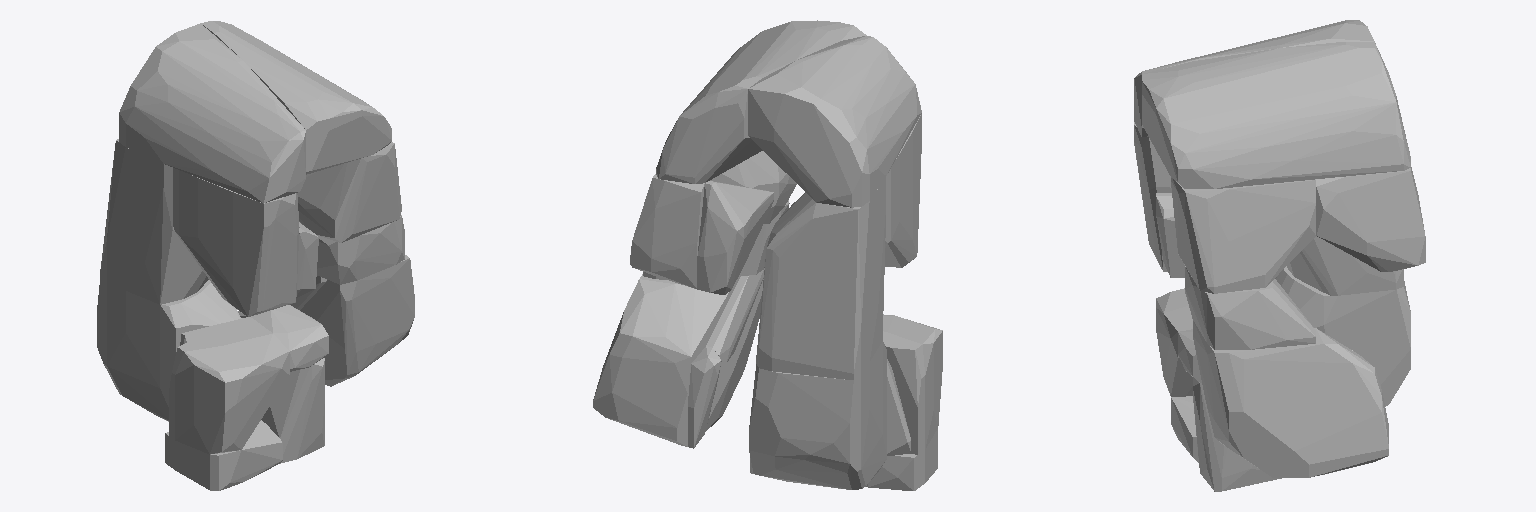
URDF robot description (root):
<robot name="root">
  <link name="link_bar_clamp_convex_piece_0">
    <inertial>
      <origin rpy="0 0 0" xyz="0 0 0"/>
      <mass value="1.90E-05"/>
      <inertia ixx="2.62E-08" ixy="-5.85E-09" ixz="1.39E-08" iyy="3.22E-08" iyz="-7.34E-09" izz="1.58E-08"/>
    </inertial>
    <visual>
      <origin rpy="0 0 0" xyz="0 0 0"/>
      <geometry>
        <mesh filename="bar_clamp_convex_piece_0.obj" scale="1.0000E+00"/>
      </geometry>
      <material name="">
        <color rgba="7.50E-01 7.50E-01 7.50E-01 1"/>
      </material>
    </visual>
    <collision>
      <origin rpy="0 0 0" xyz="0 0 0"/>
      <geometry>
        <mesh filename="bar_clamp_convex_piece_0.obj" scale="1.0000E+00"/>
      </geometry>
    </collision>
  </link>
  <link name="link_bar_clamp_convex_piece_1">
    <inertial>
      <origin rpy="0 0 0" xyz="0 0 0"/>
      <mass value="1.44E-05"/>
      <inertia ixx="3.08E-08" ixy="1.70E-10" ixz="-1.20E-08" iyy="3.32E-08" iyz="-9.08E-10" izz="9.77E-09"/>
    </inertial>
    <visual>
      <origin rpy="0 0 0" xyz="0 0 0"/>
      <geometry>
        <mesh filename="bar_clamp_convex_piece_1.obj" scale="1.0000E+00"/>
      </geometry>
      <material name="">
        <color rgba="7.50E-01 7.50E-01 7.50E-01 1"/>
      </material>
    </visual>
    <collision>
      <origin rpy="0 0 0" xyz="0 0 0"/>
      <geometry>
        <mesh filename="bar_clamp_convex_piece_1.obj" scale="1.0000E+00"/>
      </geometry>
    </collision>
  </link>
  <joint name="link_bar_clamp_convex_piece_1_joint" type="fixed">
    <origin rpy="0 0 0" xyz="0 0 0"/>
    <parent link="link_bar_clamp_convex_piece_0"/>
    <child link="link_bar_clamp_convex_piece_1"/>
  </joint>
  <link name="link_bar_clamp_convex_piece_2">
    <inertial>
      <origin rpy="0 0 0" xyz="0 0 0"/>
      <mass value="2.08E-05"/>
      <inertia ixx="1.92E-08" ixy="1.17E-09" ixz="-1.24E-08" iyy="2.78E-08" iyz="-1.95E-09" izz="1.46E-08"/>
    </inertial>
    <visual>
      <origin rpy="0 0 0" xyz="0 0 0"/>
      <geometry>
        <mesh filename="bar_clamp_convex_piece_2.obj" scale="1.0000E+00"/>
      </geometry>
      <material name="">
        <color rgba="7.50E-01 7.50E-01 7.50E-01 1"/>
      </material>
    </visual>
    <collision>
      <origin rpy="0 0 0" xyz="0 0 0"/>
      <geometry>
        <mesh filename="bar_clamp_convex_piece_2.obj" scale="1.0000E+00"/>
      </geometry>
    </collision>
  </link>
  <joint name="link_bar_clamp_convex_piece_2_joint" type="fixed">
    <origin rpy="0 0 0" xyz="0 0 0"/>
    <parent link="link_bar_clamp_convex_piece_1"/>
    <child link="link_bar_clamp_convex_piece_2"/>
  </joint>
  <link name="link_bar_clamp_convex_piece_3">
    <inertial>
      <origin rpy="0 0 0" xyz="0 0 0"/>
      <mass value="1.78E-05"/>
      <inertia ixx="3.97E-08" ixy="-3.55E-10" ixz="2.98E-09" iyy="3.51E-08" iyz="-2.18E-09" izz="6.40E-09"/>
    </inertial>
    <visual>
      <origin rpy="0 0 0" xyz="0 0 0"/>
      <geometry>
        <mesh filename="bar_clamp_convex_piece_3.obj" scale="1.0000E+00"/>
      </geometry>
      <material name="">
        <color rgba="7.50E-01 7.50E-01 7.50E-01 1"/>
      </material>
    </visual>
    <collision>
      <origin rpy="0 0 0" xyz="0 0 0"/>
      <geometry>
        <mesh filename="bar_clamp_convex_piece_3.obj" scale="1.0000E+00"/>
      </geometry>
    </collision>
  </link>
  <joint name="link_bar_clamp_convex_piece_3_joint" type="fixed">
    <origin rpy="0 0 0" xyz="0 0 0"/>
    <parent link="link_bar_clamp_convex_piece_2"/>
    <child link="link_bar_clamp_convex_piece_3"/>
  </joint>
  <link name="link_bar_clamp_convex_piece_4">
    <inertial>
      <origin rpy="0 0 0" xyz="0 0 0"/>
      <mass value="3.56E-06"/>
      <inertia ixx="1.11E-08" ixy="1.28E-09" ixz="4.46E-09" iyy="1.22E-08" iyz="2.86E-09" izz="3.02E-09"/>
    </inertial>
    <visual>
      <origin rpy="0 0 0" xyz="0 0 0"/>
      <geometry>
        <mesh filename="bar_clamp_convex_piece_4.obj" scale="1.0000E+00"/>
      </geometry>
      <material name="">
        <color rgba="7.50E-01 7.50E-01 7.50E-01 1"/>
      </material>
    </visual>
    <collision>
      <origin rpy="0 0 0" xyz="0 0 0"/>
      <geometry>
        <mesh filename="bar_clamp_convex_piece_4.obj" scale="1.0000E+00"/>
      </geometry>
    </collision>
  </link>
  <joint name="link_bar_clamp_convex_piece_4_joint" type="fixed">
    <origin rpy="0 0 0" xyz="0 0 0"/>
    <parent link="link_bar_clamp_convex_piece_3"/>
    <child link="link_bar_clamp_convex_piece_4"/>
  </joint>
  <link name="link_bar_clamp_convex_piece_5">
    <inertial>
      <origin rpy="0 0 0" xyz="0 0 0"/>
      <mass value="1.12E-05"/>
      <inertia ixx="8.34E-09" ixy="3.98E-09" ixz="-3.26E-09" iyy="7.82E-09" iyz="-3.03E-09" izz="9.13E-09"/>
    </inertial>
    <visual>
      <origin rpy="0 0 0" xyz="0 0 0"/>
      <geometry>
        <mesh filename="bar_clamp_convex_piece_5.obj" scale="1.0000E+00"/>
      </geometry>
      <material name="">
        <color rgba="7.50E-01 7.50E-01 7.50E-01 1"/>
      </material>
    </visual>
    <collision>
      <origin rpy="0 0 0" xyz="0 0 0"/>
      <geometry>
        <mesh filename="bar_clamp_convex_piece_5.obj" scale="1.0000E+00"/>
      </geometry>
    </collision>
  </link>
  <joint name="link_bar_clamp_convex_piece_5_joint" type="fixed">
    <origin rpy="0 0 0" xyz="0 0 0"/>
    <parent link="link_bar_clamp_convex_piece_4"/>
    <child link="link_bar_clamp_convex_piece_5"/>
  </joint>
  <link name="link_bar_clamp_convex_piece_6">
    <inertial>
      <origin rpy="0 0 0" xyz="0 0 0"/>
      <mass value="1.68E-05"/>
      <inertia ixx="7.38E-09" ixy="-5.47E-09" ixz="-3.20E-09" iyy="1.41E-08" iyz="1.34E-09" izz="1.47E-08"/>
    </inertial>
    <visual>
      <origin rpy="0 0 0" xyz="0 0 0"/>
      <geometry>
        <mesh filename="bar_clamp_convex_piece_6.obj" scale="1.0000E+00"/>
      </geometry>
      <material name="">
        <color rgba="7.50E-01 7.50E-01 7.50E-01 1"/>
      </material>
    </visual>
    <collision>
      <origin rpy="0 0 0" xyz="0 0 0"/>
      <geometry>
        <mesh filename="bar_clamp_convex_piece_6.obj" scale="1.0000E+00"/>
      </geometry>
    </collision>
  </link>
  <joint name="link_bar_clamp_convex_piece_6_joint" type="fixed">
    <origin rpy="0 0 0" xyz="0 0 0"/>
    <parent link="link_bar_clamp_convex_piece_5"/>
    <child link="link_bar_clamp_convex_piece_6"/>
  </joint>
  <link name="link_bar_clamp_convex_piece_7">
    <inertial>
      <origin rpy="0 0 0" xyz="0 0 0"/>
      <mass value="3.60E-07"/>
      <inertia ixx="4.51E-10" ixy="4.96E-11" ixz="-8.21E-11" iyy="3.53E-10" iyz="-1.91E-10" izz="1.24E-10"/>
    </inertial>
    <visual>
      <origin rpy="0 0 0" xyz="0 0 0"/>
      <geometry>
        <mesh filename="bar_clamp_convex_piece_7.obj" scale="1.0000E+00"/>
      </geometry>
      <material name="">
        <color rgba="7.50E-01 7.50E-01 7.50E-01 1"/>
      </material>
    </visual>
    <collision>
      <origin rpy="0 0 0" xyz="0 0 0"/>
      <geometry>
        <mesh filename="bar_clamp_convex_piece_7.obj" scale="1.0000E+00"/>
      </geometry>
    </collision>
  </link>
  <joint name="link_bar_clamp_convex_piece_7_joint" type="fixed">
    <origin rpy="0 0 0" xyz="0 0 0"/>
    <parent link="link_bar_clamp_convex_piece_6"/>
    <child link="link_bar_clamp_convex_piece_7"/>
  </joint>
  <link name="link_bar_clamp_convex_piece_8">
    <inertial>
      <origin rpy="0 0 0" xyz="0 0 0"/>
      <mass value="6.60E-06"/>
      <inertia ixx="9.78E-09" ixy="3.15E-09" ixz="5.53E-09" iyy="1.16E-08" iyz="4.04E-09" izz="6.93E-09"/>
    </inertial>
    <visual>
      <origin rpy="0 0 0" xyz="0 0 0"/>
      <geometry>
        <mesh filename="bar_clamp_convex_piece_8.obj" scale="1.0000E+00"/>
      </geometry>
      <material name="">
        <color rgba="7.50E-01 7.50E-01 7.50E-01 1"/>
      </material>
    </visual>
    <collision>
      <origin rpy="0 0 0" xyz="0 0 0"/>
      <geometry>
        <mesh filename="bar_clamp_convex_piece_8.obj" scale="1.0000E+00"/>
      </geometry>
    </collision>
  </link>
  <joint name="link_bar_clamp_convex_piece_8_joint" type="fixed">
    <origin rpy="0 0 0" xyz="0 0 0"/>
    <parent link="link_bar_clamp_convex_piece_7"/>
    <child link="link_bar_clamp_convex_piece_8"/>
  </joint>
  <link name="link_bar_clamp_convex_piece_9">
    <inertial>
      <origin rpy="0 0 0" xyz="0 0 0"/>
      <mass value="2.02E-06"/>
      <inertia ixx="2.55E-09" ixy="2.86E-10" ixz="1.50E-09" iyy="3.43E-09" iyz="4.41E-10" izz="1.06E-09"/>
    </inertial>
    <visual>
      <origin rpy="0 0 0" xyz="0 0 0"/>
      <geometry>
        <mesh filename="bar_clamp_convex_piece_9.obj" scale="1.0000E+00"/>
      </geometry>
      <material name="">
        <color rgba="7.50E-01 7.50E-01 7.50E-01 1"/>
      </material>
    </visual>
    <collision>
      <origin rpy="0 0 0" xyz="0 0 0"/>
      <geometry>
        <mesh filename="bar_clamp_convex_piece_9.obj" scale="1.0000E+00"/>
      </geometry>
    </collision>
  </link>
  <joint name="link_bar_clamp_convex_piece_9_joint" type="fixed">
    <origin rpy="0 0 0" xyz="0 0 0"/>
    <parent link="link_bar_clamp_convex_piece_8"/>
    <child link="link_bar_clamp_convex_piece_9"/>
  </joint>
  <link name="link_bar_clamp_convex_piece_10">
    <inertial>
      <origin rpy="0 0 0" xyz="0 0 0"/>
      <mass value="6.26E-06"/>
      <inertia ixx="1.33E-08" ixy="2.38E-11" ixz="5.47E-10" iyy="1.25E-08" iyz="1.97E-09" izz="7.19E-10"/>
    </inertial>
    <visual>
      <origin rpy="0 0 0" xyz="0 0 0"/>
      <geometry>
        <mesh filename="bar_clamp_convex_piece_10.obj" scale="1.0000E+00"/>
      </geometry>
      <material name="">
        <color rgba="7.50E-01 7.50E-01 7.50E-01 1"/>
      </material>
    </visual>
    <collision>
      <origin rpy="0 0 0" xyz="0 0 0"/>
      <geometry>
        <mesh filename="bar_clamp_convex_piece_10.obj" scale="1.0000E+00"/>
      </geometry>
    </collision>
  </link>
  <joint name="link_bar_clamp_convex_piece_10_joint" type="fixed">
    <origin rpy="0 0 0" xyz="0 0 0"/>
    <parent link="link_bar_clamp_convex_piece_9"/>
    <child link="link_bar_clamp_convex_piece_10"/>
  </joint>
  <link name="link_bar_clamp_convex_piece_11">
    <inertial>
      <origin rpy="0 0 0" xyz="0 0 0"/>
      <mass value="1.48E-06"/>
      <inertia ixx="7.85E-10" ixy="1.72E-10" ixz="-4.55E-11" iyy="1.26E-10" iyz="-1.92E-10" izz="6.95E-10"/>
    </inertial>
    <visual>
      <origin rpy="0 0 0" xyz="0 0 0"/>
      <geometry>
        <mesh filename="bar_clamp_convex_piece_11.obj" scale="1.0000E+00"/>
      </geometry>
      <material name="">
        <color rgba="7.50E-01 7.50E-01 7.50E-01 1"/>
      </material>
    </visual>
    <collision>
      <origin rpy="0 0 0" xyz="0 0 0"/>
      <geometry>
        <mesh filename="bar_clamp_convex_piece_11.obj" scale="1.0000E+00"/>
      </geometry>
    </collision>
  </link>
  <joint name="link_bar_clamp_convex_piece_11_joint" type="fixed">
    <origin rpy="0 0 0" xyz="0 0 0"/>
    <parent link="link_bar_clamp_convex_piece_10"/>
    <child link="link_bar_clamp_convex_piece_11"/>
  </joint>
  <link name="link_bar_clamp_convex_piece_12">
    <inertial>
      <origin rpy="0 0 0" xyz="0 0 0"/>
      <mass value="2.08E-06"/>
      <inertia ixx="1.71E-09" ixy="-1.19E-10" ixz="-7.41E-11" iyy="6.36E-10" iyz="7.34E-10" izz="1.03E-09"/>
    </inertial>
    <visual>
      <origin rpy="0 0 0" xyz="0 0 0"/>
      <geometry>
        <mesh filename="bar_clamp_convex_piece_12.obj" scale="1.0000E+00"/>
      </geometry>
      <material name="">
        <color rgba="7.50E-01 7.50E-01 7.50E-01 1"/>
      </material>
    </visual>
    <collision>
      <origin rpy="0 0 0" xyz="0 0 0"/>
      <geometry>
        <mesh filename="bar_clamp_convex_piece_12.obj" scale="1.0000E+00"/>
      </geometry>
    </collision>
  </link>
  <joint name="link_bar_clamp_convex_piece_12_joint" type="fixed">
    <origin rpy="0 0 0" xyz="0 0 0"/>
    <parent link="link_bar_clamp_convex_piece_11"/>
    <child link="link_bar_clamp_convex_piece_12"/>
  </joint>
  <link name="link_bar_clamp_convex_piece_13">
    <inertial>
      <origin rpy="0 0 0" xyz="0 0 0"/>
      <mass value="6.61E-06"/>
      <inertia ixx="6.55E-09" ixy="1.43E-09" ixz="1.32E-09" iyy="3.56E-09" iyz="2.83E-09" izz="4.26E-09"/>
    </inertial>
    <visual>
      <origin rpy="0 0 0" xyz="0 0 0"/>
      <geometry>
        <mesh filename="bar_clamp_convex_piece_13.obj" scale="1.0000E+00"/>
      </geometry>
      <material name="">
        <color rgba="7.50E-01 7.50E-01 7.50E-01 1"/>
      </material>
    </visual>
    <collision>
      <origin rpy="0 0 0" xyz="0 0 0"/>
      <geometry>
        <mesh filename="bar_clamp_convex_piece_13.obj" scale="1.0000E+00"/>
      </geometry>
    </collision>
  </link>
  <joint name="link_bar_clamp_convex_piece_13_joint" type="fixed">
    <origin rpy="0 0 0" xyz="0 0 0"/>
    <parent link="link_bar_clamp_convex_piece_12"/>
    <child link="link_bar_clamp_convex_piece_13"/>
  </joint>
  <link name="link_bar_clamp_convex_piece_14">
    <inertial>
      <origin rpy="0 0 0" xyz="0 0 0"/>
      <mass value="2.16E-06"/>
      <inertia ixx="1.70E-09" ixy="4.07E-11" ixz="1.44E-10" iyy="1.33E-09" iyz="5.21E-10" izz="3.56E-10"/>
    </inertial>
    <visual>
      <origin rpy="0 0 0" xyz="0 0 0"/>
      <geometry>
        <mesh filename="bar_clamp_convex_piece_14.obj" scale="1.0000E+00"/>
      </geometry>
      <material name="">
        <color rgba="7.50E-01 7.50E-01 7.50E-01 1"/>
      </material>
    </visual>
    <collision>
      <origin rpy="0 0 0" xyz="0 0 0"/>
      <geometry>
        <mesh filename="bar_clamp_convex_piece_14.obj" scale="1.0000E+00"/>
      </geometry>
    </collision>
  </link>
  <joint name="link_bar_clamp_convex_piece_14_joint" type="fixed">
    <origin rpy="0 0 0" xyz="0 0 0"/>
    <parent link="link_bar_clamp_convex_piece_13"/>
    <child link="link_bar_clamp_convex_piece_14"/>
  </joint>
  <link name="link_bar_clamp_convex_piece_15">
    <inertial>
      <origin rpy="0 0 0" xyz="0 0 0"/>
      <mass value="3.96E-07"/>
      <inertia ixx="1.49E-10" ixy="3.88E-12" ixz="-5.44E-11" iyy="1.50E-10" iyz="-1.79E-11" izz="3.60E-11"/>
    </inertial>
    <visual>
      <origin rpy="0 0 0" xyz="0 0 0"/>
      <geometry>
        <mesh filename="bar_clamp_convex_piece_15.obj" scale="1.0000E+00"/>
      </geometry>
      <material name="">
        <color rgba="7.50E-01 7.50E-01 7.50E-01 1"/>
      </material>
    </visual>
    <collision>
      <origin rpy="0 0 0" xyz="0 0 0"/>
      <geometry>
        <mesh filename="bar_clamp_convex_piece_15.obj" scale="1.0000E+00"/>
      </geometry>
    </collision>
  </link>
  <joint name="link_bar_clamp_convex_piece_15_joint" type="fixed">
    <origin rpy="0 0 0" xyz="0 0 0"/>
    <parent link="link_bar_clamp_convex_piece_14"/>
    <child link="link_bar_clamp_convex_piece_15"/>
  </joint>
  <link name="link_bar_clamp_convex_piece_16">
    <inertial>
      <origin rpy="0 0 0" xyz="0 0 0"/>
      <mass value="5.13E-06"/>
      <inertia ixx="8.72E-10" ixy="-9.44E-10" ixz="-1.00E-11" iyy="2.18E-09" iyz="-2.23E-11" izz="2.90E-09"/>
    </inertial>
    <visual>
      <origin rpy="0 0 0" xyz="0 0 0"/>
      <geometry>
        <mesh filename="bar_clamp_convex_piece_16.obj" scale="1.0000E+00"/>
      </geometry>
      <material name="">
        <color rgba="7.50E-01 7.50E-01 7.50E-01 1"/>
      </material>
    </visual>
    <collision>
      <origin rpy="0 0 0" xyz="0 0 0"/>
      <geometry>
        <mesh filename="bar_clamp_convex_piece_16.obj" scale="1.0000E+00"/>
      </geometry>
    </collision>
  </link>
  <joint name="link_bar_clamp_convex_piece_16_joint" type="fixed">
    <origin rpy="0 0 0" xyz="0 0 0"/>
    <parent link="link_bar_clamp_convex_piece_15"/>
    <child link="link_bar_clamp_convex_piece_16"/>
  </joint>
  <link name="link_bar_clamp_convex_piece_17">
    <inertial>
      <origin rpy="0 0 0" xyz="0 0 0"/>
      <mass value="1.08E-05"/>
      <inertia ixx="6.68E-09" ixy="-1.59E-09" ixz="3.30E-09" iyy="7.50E-09" iyz="-1.89E-09" izz="4.48E-09"/>
    </inertial>
    <visual>
      <origin rpy="0 0 0" xyz="0 0 0"/>
      <geometry>
        <mesh filename="bar_clamp_convex_piece_17.obj" scale="1.0000E+00"/>
      </geometry>
      <material name="">
        <color rgba="7.50E-01 7.50E-01 7.50E-01 1"/>
      </material>
    </visual>
    <collision>
      <origin rpy="0 0 0" xyz="0 0 0"/>
      <geometry>
        <mesh filename="bar_clamp_convex_piece_17.obj" scale="1.0000E+00"/>
      </geometry>
    </collision>
  </link>
  <joint name="link_bar_clamp_convex_piece_17_joint" type="fixed">
    <origin rpy="0 0 0" xyz="0 0 0"/>
    <parent link="link_bar_clamp_convex_piece_16"/>
    <child link="link_bar_clamp_convex_piece_17"/>
  </joint>
</robot>

--- What the picture shows (computed from the rendered views, not written in the file) ---
The picture shows the robot from 3 angles, left to right: view 1: azimuth 30°, elevation 25°; view 2: azimuth 150°, elevation 25°; view 3: azimuth 270°, elevation 25°; orthographic projection.
Model root with 18 links and 17 joints (17 fixed), rooted at link_bar_clamp_convex_piece_0, posed every joint at zero.
Links seen in each view (by area): view 1: link_bar_clamp_convex_piece_1, link_bar_clamp_convex_piece_5, link_bar_clamp_convex_piece_8, link_bar_clamp_convex_piece_6, link_bar_clamp_convex_piece_0, link_bar_clamp_convex_piece_3, link_bar_clamp_convex_piece_2, link_bar_clamp_convex_piece_17, link_bar_clamp_convex_piece_10, link_bar_clamp_convex_piece_4, link_bar_clamp_convex_piece_16, link_bar_clamp_convex_piece_14 (+2 smaller); view 2: link_bar_clamp_convex_piece_1, link_bar_clamp_convex_piece_6, link_bar_clamp_convex_piece_2, link_bar_clamp_convex_piece_0, link_bar_clamp_convex_piece_3, link_bar_clamp_convex_piece_13, link_bar_clamp_convex_piece_12, link_bar_clamp_convex_piece_8, link_bar_clamp_convex_piece_5, link_bar_clamp_convex_piece_15, link_bar_clamp_convex_piece_7, link_bar_clamp_convex_piece_4 (+3 smaller); view 3: link_bar_clamp_convex_piece_3, link_bar_clamp_convex_piece_2, link_bar_clamp_convex_piece_17, link_bar_clamp_convex_piece_13, link_bar_clamp_convex_piece_0, link_bar_clamp_convex_piece_16, link_bar_clamp_convex_piece_6, link_bar_clamp_convex_piece_10, link_bar_clamp_convex_piece_1, link_bar_clamp_convex_piece_8, link_bar_clamp_convex_piece_5, link_bar_clamp_convex_piece_11 (+2 smaller).
Boxes of the visible links, x1,y1,x2,y2 form: link_bar_clamp_convex_piece_1: [119, 23, 305, 203]; link_bar_clamp_convex_piece_5: [173, 168, 299, 316]; link_bar_clamp_convex_piece_8: [169, 324, 289, 454]; link_bar_clamp_convex_piece_6: [100, 139, 208, 304]; link_bar_clamp_convex_piece_0: [97, 278, 241, 421]; link_bar_clamp_convex_piece_3: [201, 21, 391, 174]; link_bar_clamp_convex_piece_2: [300, 255, 414, 386]; link_bar_clamp_convex_piece_17: [297, 142, 401, 242]; link_bar_clamp_convex_piece_10: [261, 358, 324, 463]; link_bar_clamp_convex_piece_4: [165, 420, 282, 490]; link_bar_clamp_convex_piece_16: [317, 215, 404, 284]; link_bar_clamp_convex_piece_14: [238, 305, 328, 371]; link_bar_clamp_convex_piece_1: [748, 36, 921, 207]; link_bar_clamp_convex_piece_6: [756, 178, 885, 379]; link_bar_clamp_convex_piece_2: [593, 274, 763, 446]; link_bar_clamp_convex_piece_0: [749, 341, 886, 489]; link_bar_clamp_convex_piece_3: [656, 20, 866, 183]; link_bar_clamp_convex_piece_13: [630, 165, 745, 288]; link_bar_clamp_convex_piece_12: [697, 181, 773, 294]; link_bar_clamp_convex_piece_8: [883, 314, 942, 454]; link_bar_clamp_convex_piece_5: [885, 114, 921, 267]; link_bar_clamp_convex_piece_15: [706, 268, 764, 367]; link_bar_clamp_convex_piece_7: [688, 346, 721, 448]; link_bar_clamp_convex_piece_4: [866, 429, 937, 490]; link_bar_clamp_convex_piece_3: [1142, 42, 1410, 188]; link_bar_clamp_convex_piece_2: [1193, 321, 1388, 477]; link_bar_clamp_convex_piece_17: [1171, 178, 1315, 293]; link_bar_clamp_convex_piece_13: [1316, 167, 1425, 271]; link_bar_clamp_convex_piece_0: [1275, 266, 1410, 406]; link_bar_clamp_convex_piece_16: [1185, 266, 1315, 349]; link_bar_clamp_convex_piece_6: [1287, 236, 1403, 295]; link_bar_clamp_convex_piece_10: [1193, 377, 1281, 491]; link_bar_clamp_convex_piece_1: [1134, 20, 1374, 136]; link_bar_clamp_convex_piece_8: [1156, 288, 1192, 396]; link_bar_clamp_convex_piece_5: [1134, 122, 1171, 271]; link_bar_clamp_convex_piece_11: [1156, 193, 1184, 277].
Size in the robot's own frame: 0.0793 by 0.0737 by 0.118 metres.
18 mesh visuals loaded from 18 distinct referenced files (18 OBJ).